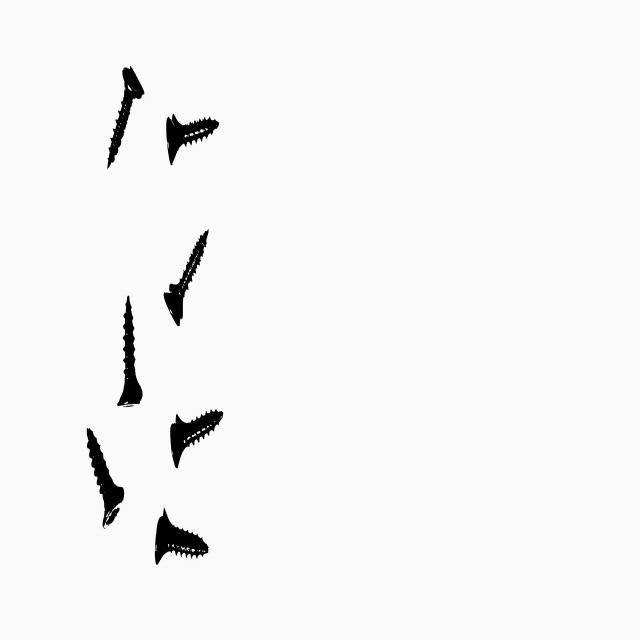Screw: (163, 228, 208, 325), (107, 64, 144, 166), (86, 427, 123, 527), (170, 409, 223, 468), (154, 507, 208, 564), (117, 294, 142, 407), (166, 112, 219, 163)
